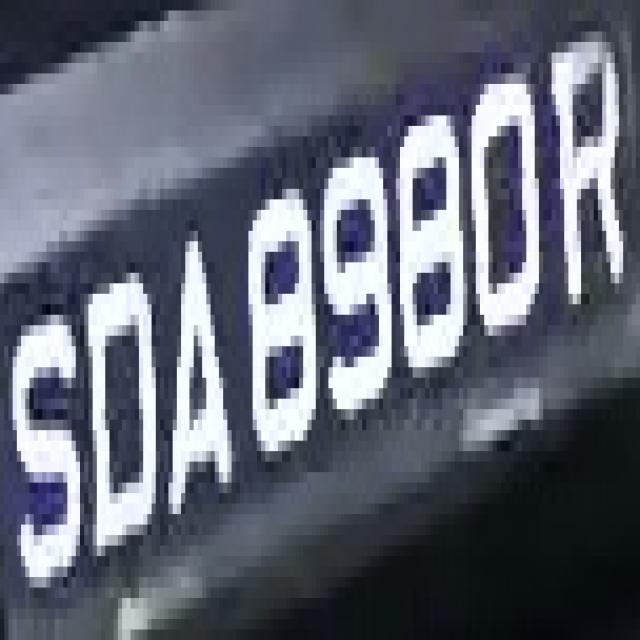0: (459, 63, 552, 357)
8: (240, 168, 324, 482), (392, 115, 476, 420)
9: (316, 126, 392, 462)
A: (164, 210, 240, 545)
D: (88, 231, 160, 587)
R: (548, 31, 632, 315)
S: (17, 262, 92, 619)
